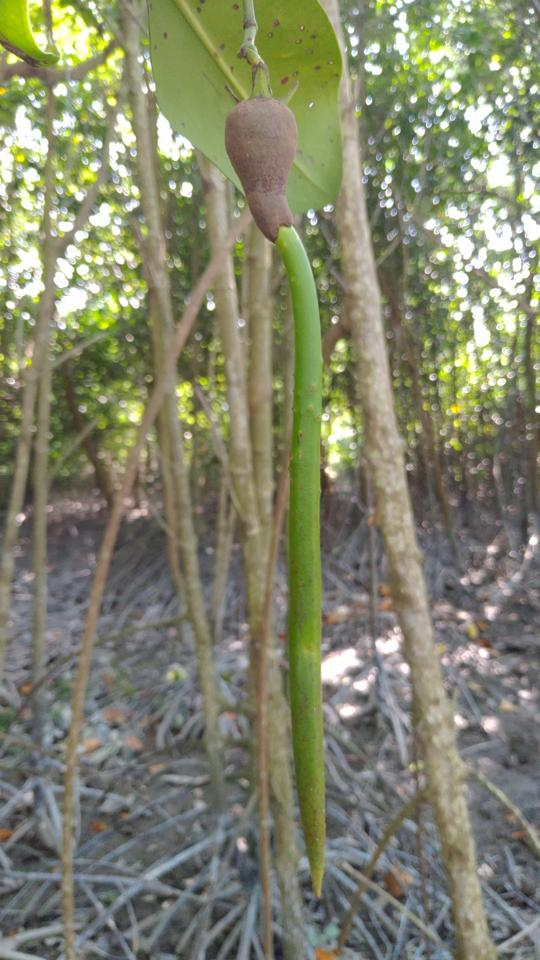mentah: (208, 63, 359, 908)
